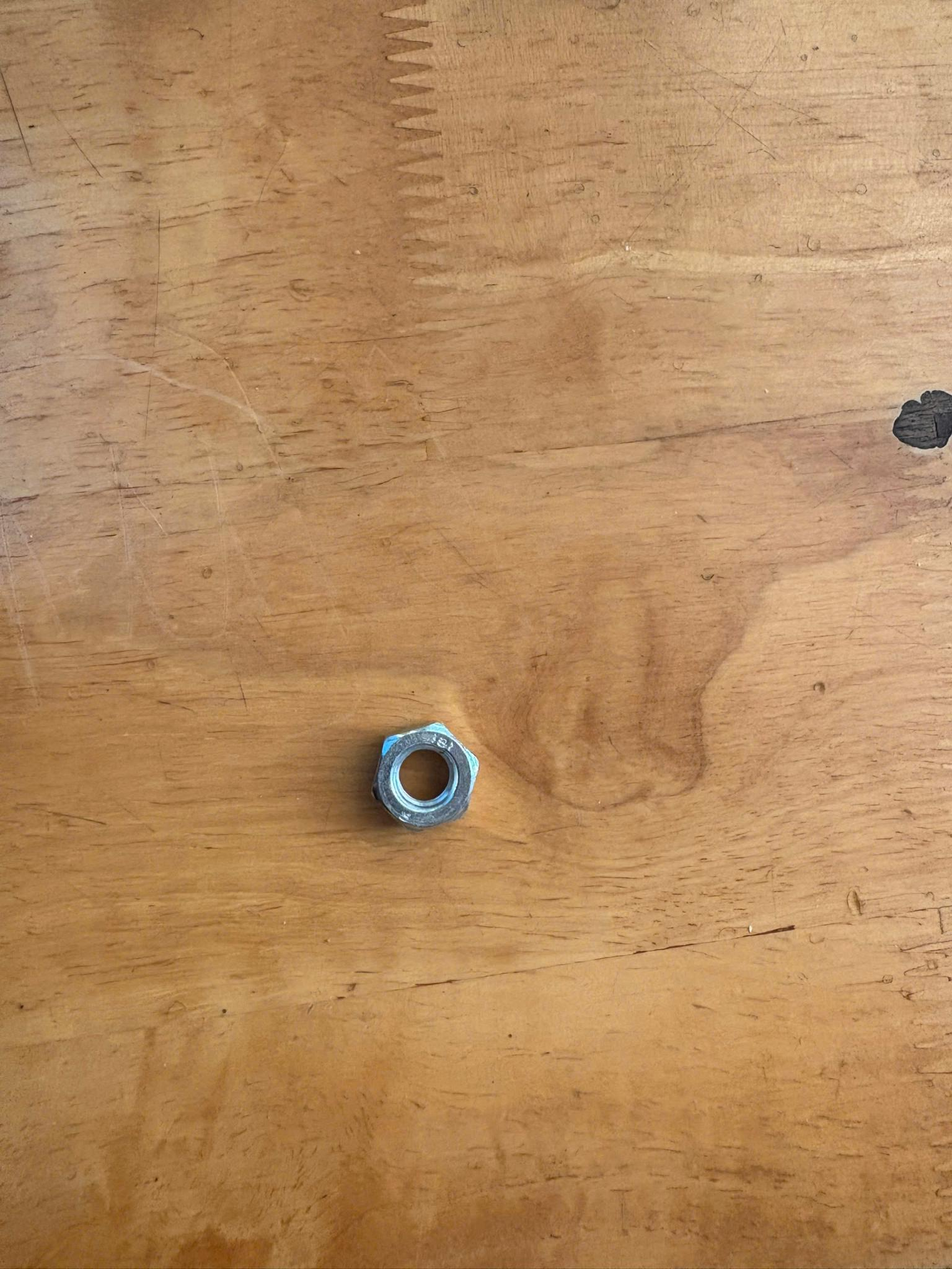nut: (367, 707, 516, 875)
